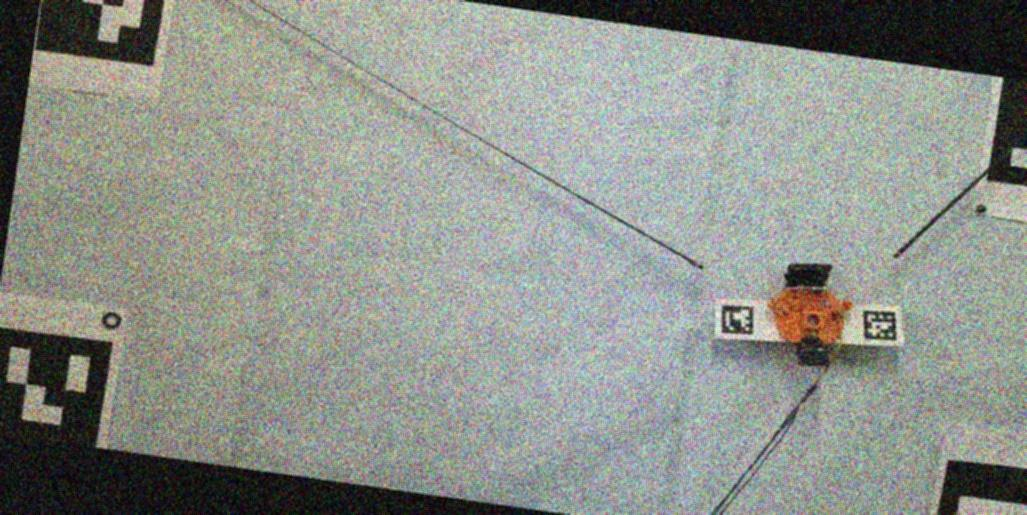robot: (771, 262, 851, 366)
